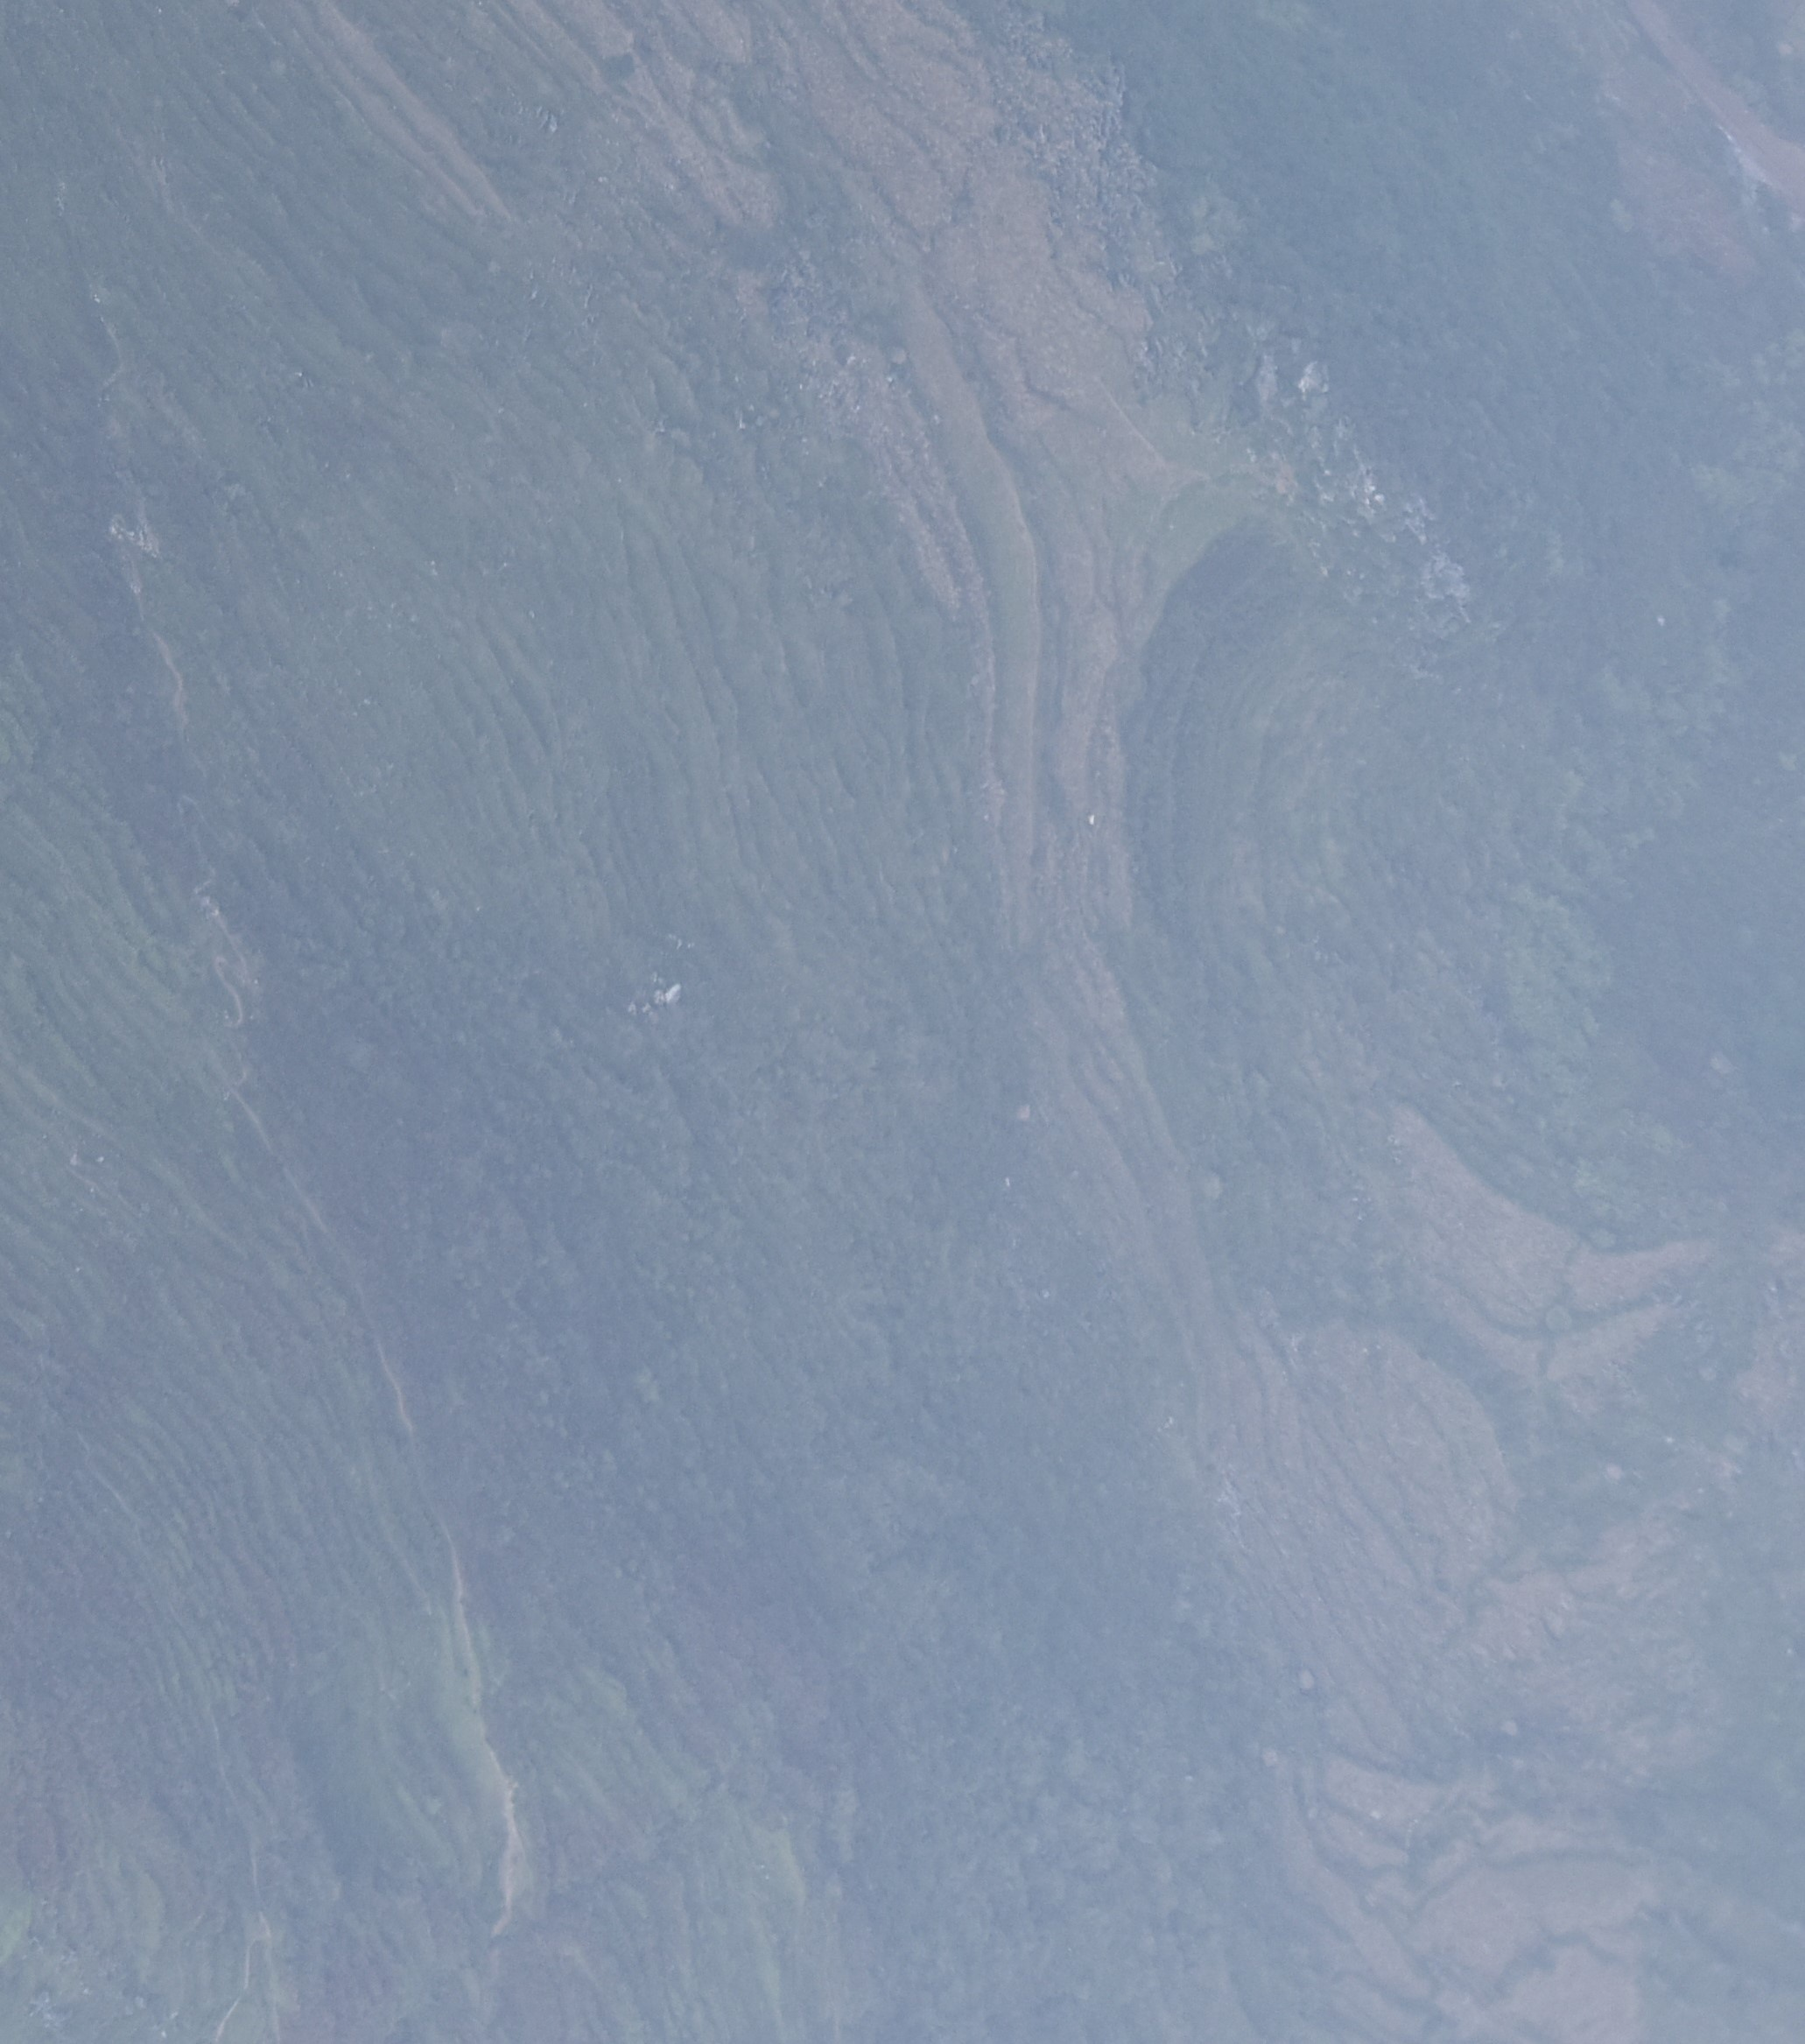landslide: (505, 10, 1782, 2039)
